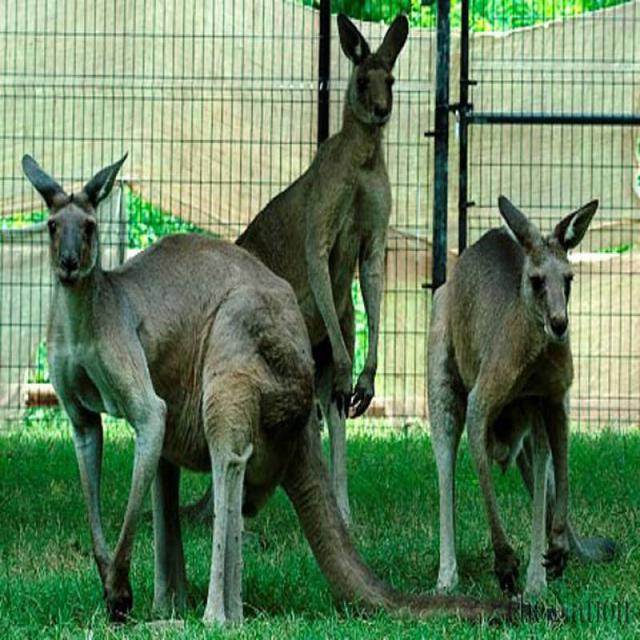kangaroo: (15, 148, 307, 622), (414, 196, 599, 615), (261, 11, 417, 289)
